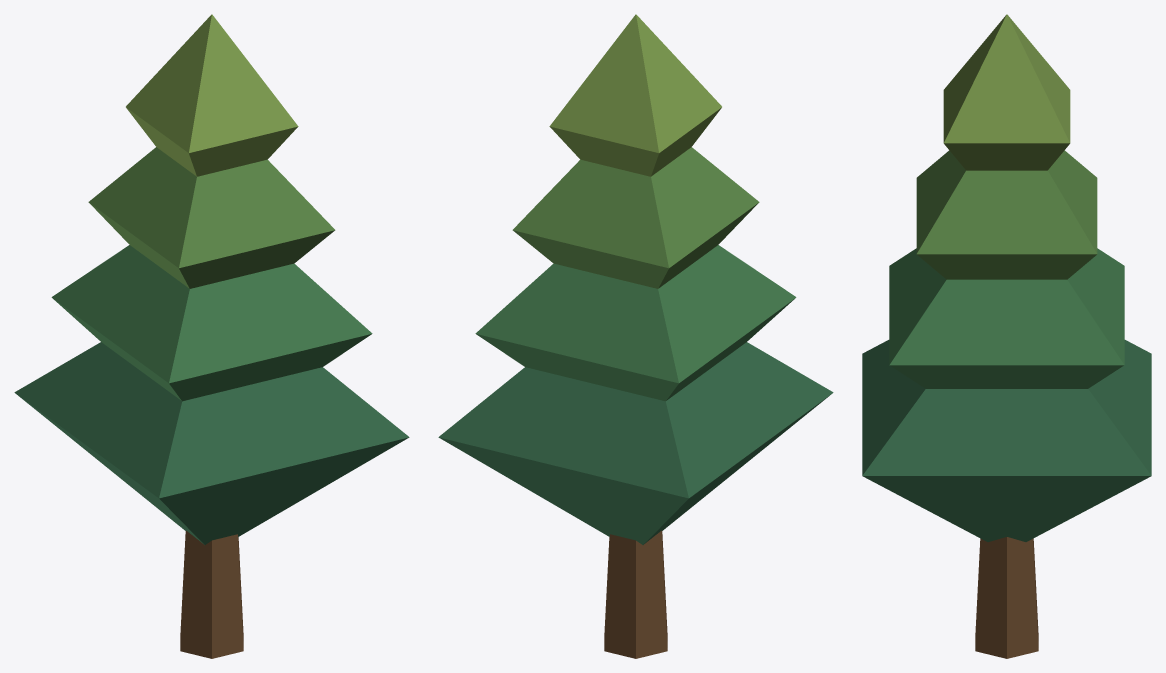
File: tree-pine.gltf
3 views of the same model, side by side, from view 1: azimuth 30°, elevation 25°; view 2: azimuth 150°, elevation 25°; view 3: azimuth 270°, elevation 25° (orthographic).
Parts seen in each view (by area): view 1: tree-pine; view 2: tree-pine; view 3: tree-pine.
Part boxes in pixels (x1,y1,x2,y2): tree-pine: [14, 14, 409, 658]; tree-pine: [438, 14, 833, 658]; tree-pine: [862, 14, 1151, 658].
Bounding box in the file's own units: 0.792 × 1.9 × 0.792.
